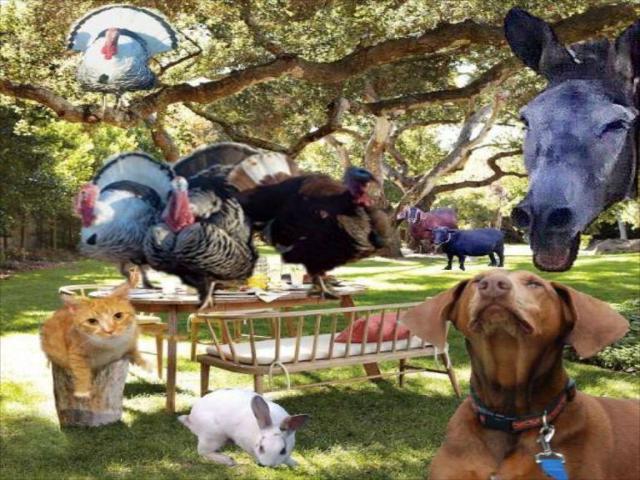Bird: (225, 166, 391, 302), (146, 141, 260, 312), (74, 151, 178, 290), (65, 1, 173, 114)
Dog: (397, 269, 639, 479)
